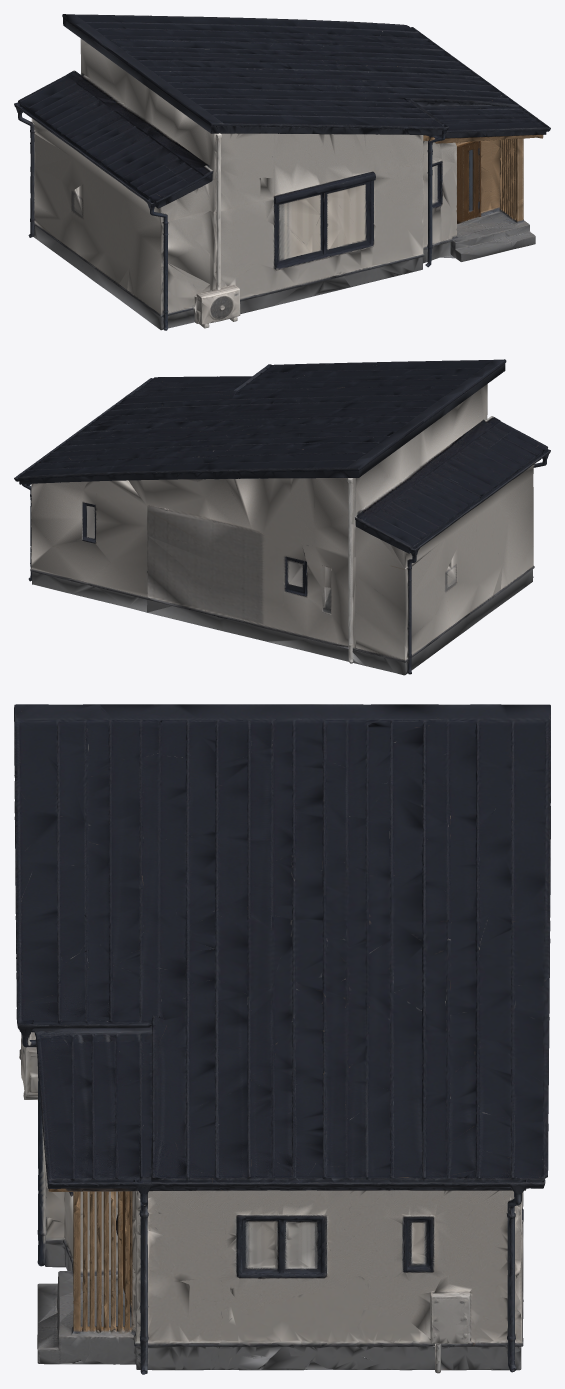
File: building_house_small_b_model.glb
3 renders of one model, top to bottom at view 1: azimuth 30°, elevation 25°; view 2: azimuth 150°, elevation 25°; view 3: azimuth 270°, elevation 25°, orthographic. The views are drawn at different scales.
Parts seen in each view (by area): view 1: Mesh_0; view 2: Mesh_0; view 3: Mesh_0.
Boxes of the visible parts, x1=… form: Mesh_0: x1=14, y1=14, x2=550, y2=330; Mesh_0: x1=14, y1=359, x2=550, y2=675; Mesh_0: x1=14, y1=704, x2=550, y2=1374.
Bounding box in the file's own units: 8.55 × 4.2 × 5.51.
Materials: 1 (1 with a texture image).
